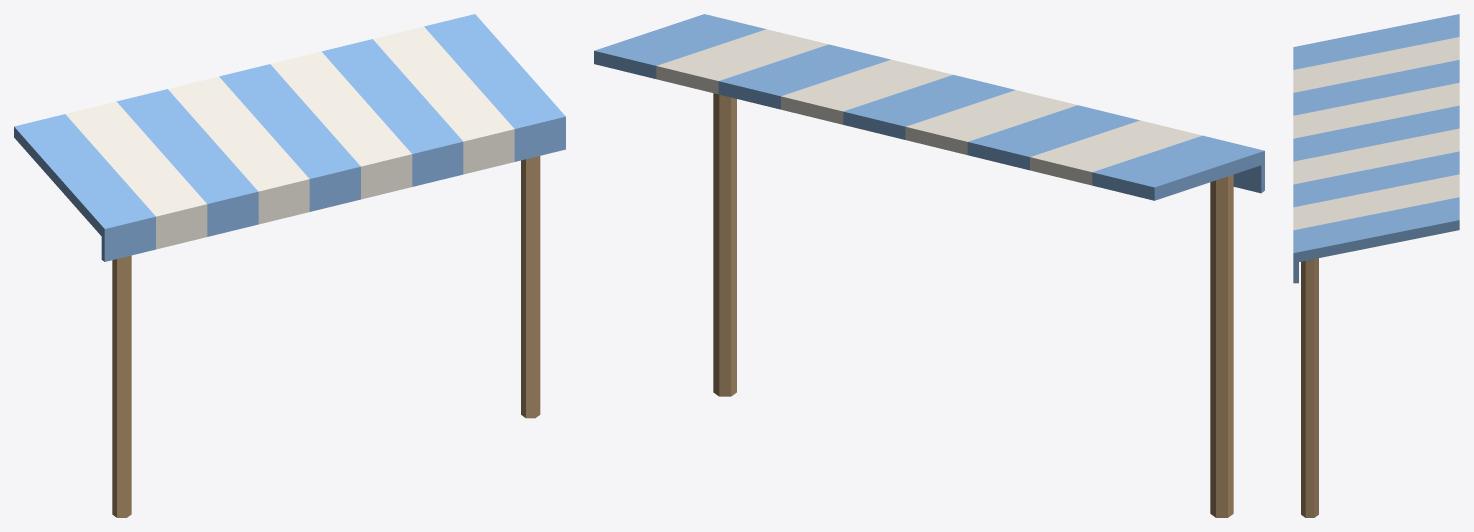
Rendered from awning_w4_4_sky.glb.
3 renders of one model, left to right at view 1: azimuth 30°, elevation 25°; view 2: azimuth 150°, elevation 25°; view 3: azimuth 270°, elevation 25°, orthographic. The views are drawn at different scales.
Parts seen in each view (by area): view 1: Player; view 2: Player; view 3: Player.
Boxes of the visible parts, x1=… form: Player: x1=14, y1=14, x2=565, y2=517; Player: x1=594, y1=14, x2=1264, y2=517; Player: x1=1293, y1=14, x2=1459, y2=517.
Size of the model in its own units: 4.4 by 3.05 by 1.5.
